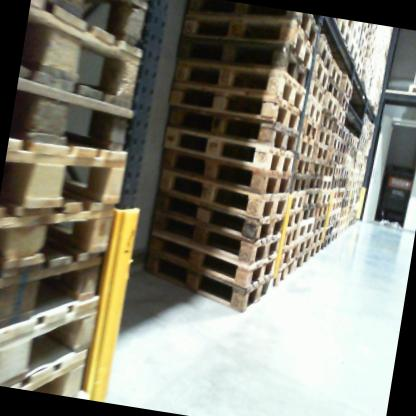pallet: (6, 62, 155, 181), (18, 0, 161, 116), (0, 127, 136, 243), (0, 234, 112, 367), (0, 182, 120, 306), (0, 277, 110, 396), (170, 18, 317, 97), (174, 4, 316, 73), (146, 184, 285, 250), (142, 226, 278, 292), (172, 52, 311, 116), (144, 203, 283, 267), (136, 252, 274, 316), (161, 101, 298, 159), (166, 72, 304, 127), (158, 145, 290, 202), (162, 124, 297, 177), (152, 170, 287, 223), (184, 0, 321, 44), (26, 0, 147, 49), (18, 338, 99, 398), (304, 29, 337, 75), (304, 50, 333, 88), (296, 104, 322, 141), (300, 77, 327, 108), (323, 53, 347, 87), (331, 22, 354, 54), (284, 181, 306, 214), (303, 91, 323, 125), (273, 258, 297, 286), (284, 168, 307, 197), (294, 229, 315, 259), (320, 89, 341, 118), (279, 221, 298, 252), (323, 76, 343, 105), (295, 133, 317, 159), (290, 153, 311, 179), (282, 204, 302, 231), (303, 171, 325, 195), (309, 141, 330, 166), (310, 212, 331, 237), (279, 239, 297, 268), (339, 70, 357, 99), (298, 201, 318, 226), (296, 217, 315, 241), (346, 37, 360, 69), (293, 245, 311, 269), (301, 187, 320, 209), (314, 125, 332, 148), (317, 109, 335, 132), (313, 200, 331, 223), (353, 54, 368, 81), (359, 22, 374, 46), (306, 158, 326, 176), (329, 115, 344, 137), (326, 130, 342, 150), (332, 106, 350, 123), (359, 36, 371, 59), (351, 23, 363, 46), (357, 50, 370, 71), (336, 94, 351, 112), (322, 158, 337, 176), (309, 241, 323, 260), (337, 126, 351, 145), (332, 20, 357, 30), (325, 145, 340, 160), (311, 228, 324, 245), (335, 137, 348, 154), (323, 211, 336, 227), (320, 174, 332, 191), (325, 200, 338, 215), (318, 189, 330, 205), (333, 162, 344, 179), (323, 222, 334, 238), (322, 234, 332, 251), (328, 189, 340, 202), (330, 177, 342, 190), (335, 150, 346, 164), (407, 80, 416, 96)
